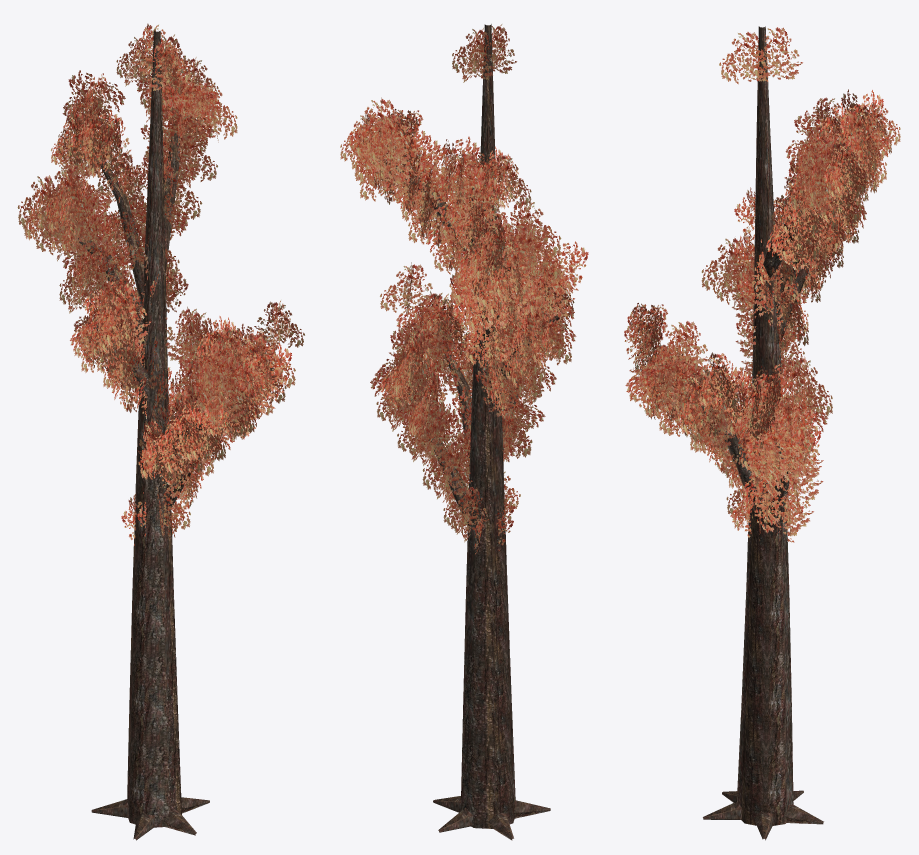
The model's file is tree_3d_02_copper_lod1.glb.
3 views of the same model, side by side, from view 1: azimuth 30°, elevation 25°; view 2: azimuth 150°, elevation 25°; view 3: azimuth 270°, elevation 25° (orthographic).
Parts seen in each view (by area): view 1: foliage_cards, wood_geometry; view 2: foliage_cards, wood_geometry; view 3: foliage_cards, wood_geometry.
Boxes of the visible parts, bbox=[...] form: foliage_cards: bbox=[17, 23, 304, 545]; wood_geometry: bbox=[75, 30, 274, 840]; foliage_cards: bbox=[340, 24, 588, 554]; wood_geometry: bbox=[379, 24, 559, 840]; foliage_cards: bbox=[624, 27, 900, 542]; wood_geometry: bbox=[681, 26, 851, 840].
Bounding box in the file's own units: 3.82 × 12.59 × 4.1.
2 materials, 2 textured.
